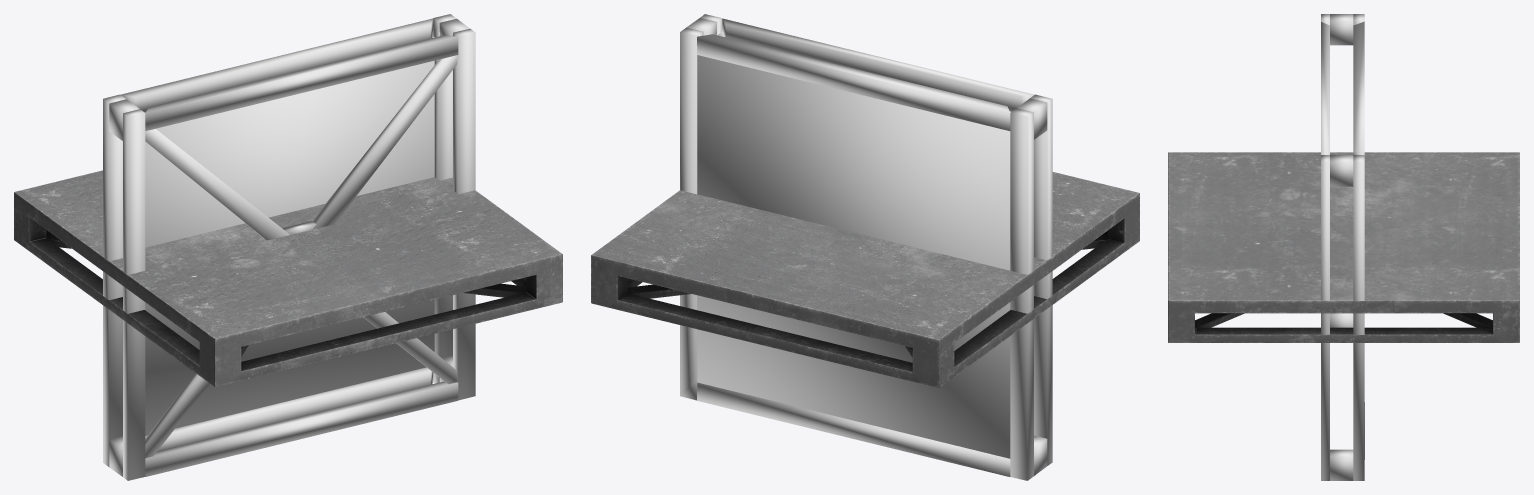
Rendered from SM_BalconyMetal_Small.fbx.
3 renders of one model, left to right at view 1: azimuth 30°, elevation 25°; view 2: azimuth 150°, elevation 25°; view 3: azimuth 270°, elevation 25°, orthographic. The views are drawn at different scales.
Parts seen in each view (by area): view 1: SM_BalconyMetal_Small_ConvexHulls, SM_BalconyMetal_Small; view 2: SM_BalconyMetal_Small_ConvexHulls, SM_BalconyMetal_Small; view 3: SM_BalconyMetal_Small, SM_BalconyMetal_Small_ConvexHulls.
Part boxes in pixels (left/top/right/bottom): SM_BalconyMetal_Small_ConvexHulls: left=103, top=14, right=475, bottom=480; SM_BalconyMetal_Small: left=14, top=170, right=562, bottom=387; SM_BalconyMetal_Small_ConvexHulls: left=680, top=14, right=1052, bottom=480; SM_BalconyMetal_Small: left=591, top=172, right=1139, bottom=388; SM_BalconyMetal_Small: left=1168, top=152, right=1519, bottom=342; SM_BalconyMetal_Small_ConvexHulls: left=1321, top=14, right=1364, bottom=480.
Bounding box in the file's own units: 1.5 × 1.5 × 1.5.
